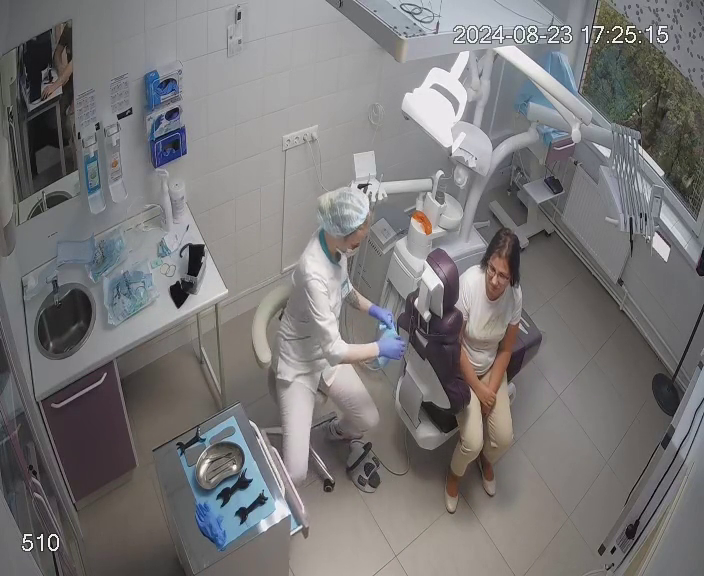Empty: (398, 230, 546, 513)
